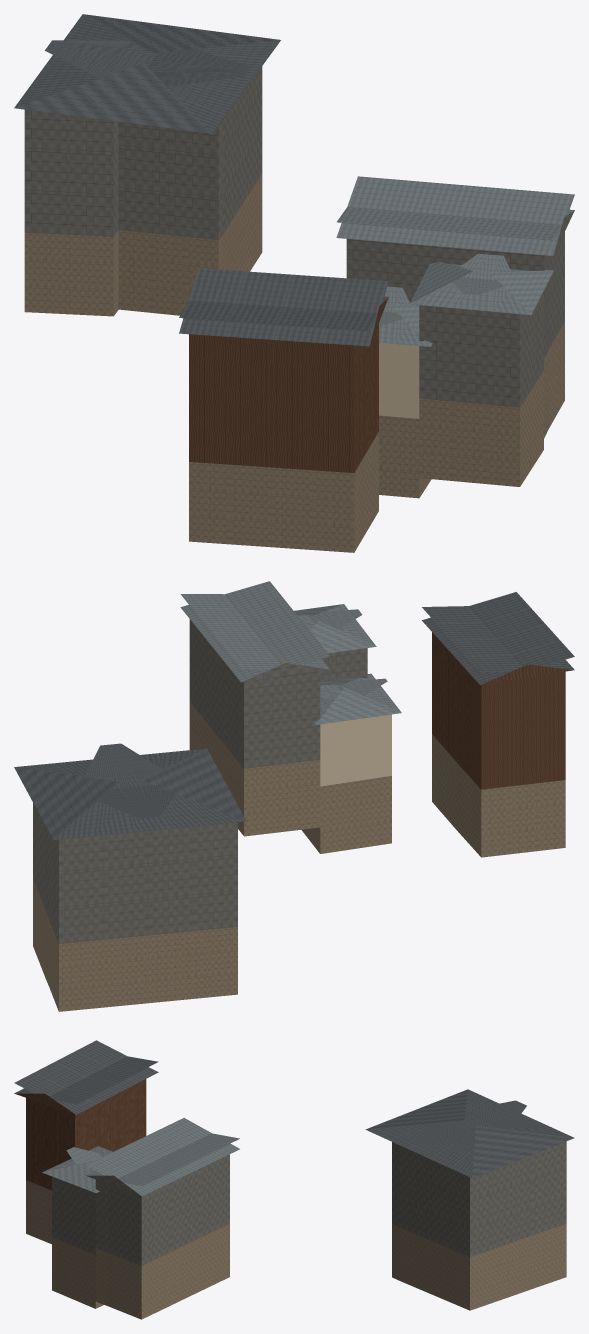
File: bld_c10_10_498.gltf
3 views of the same model, one above another, from view 1: azimuth 30°, elevation 25°; view 2: azimuth 150°, elevation 25°; view 3: azimuth 270°, elevation 25° (orthographic). The views are drawn at different scales.
Parts seen in each view (by area): view 1: bld_c10_10_498; view 2: bld_c10_10_498; view 3: bld_c10_10_498.
Part boxes in pixels (<box>): bld_c10_10_498: <box>14,14,574,552</box>; bld_c10_10_498: <box>14,581,574,1011</box>; bld_c10_10_498: <box>14,1040,574,1319</box>.
Bounding box in the file's own units: 28.78 × 15.4 × 48.2.
8 materials, 8 textured.
